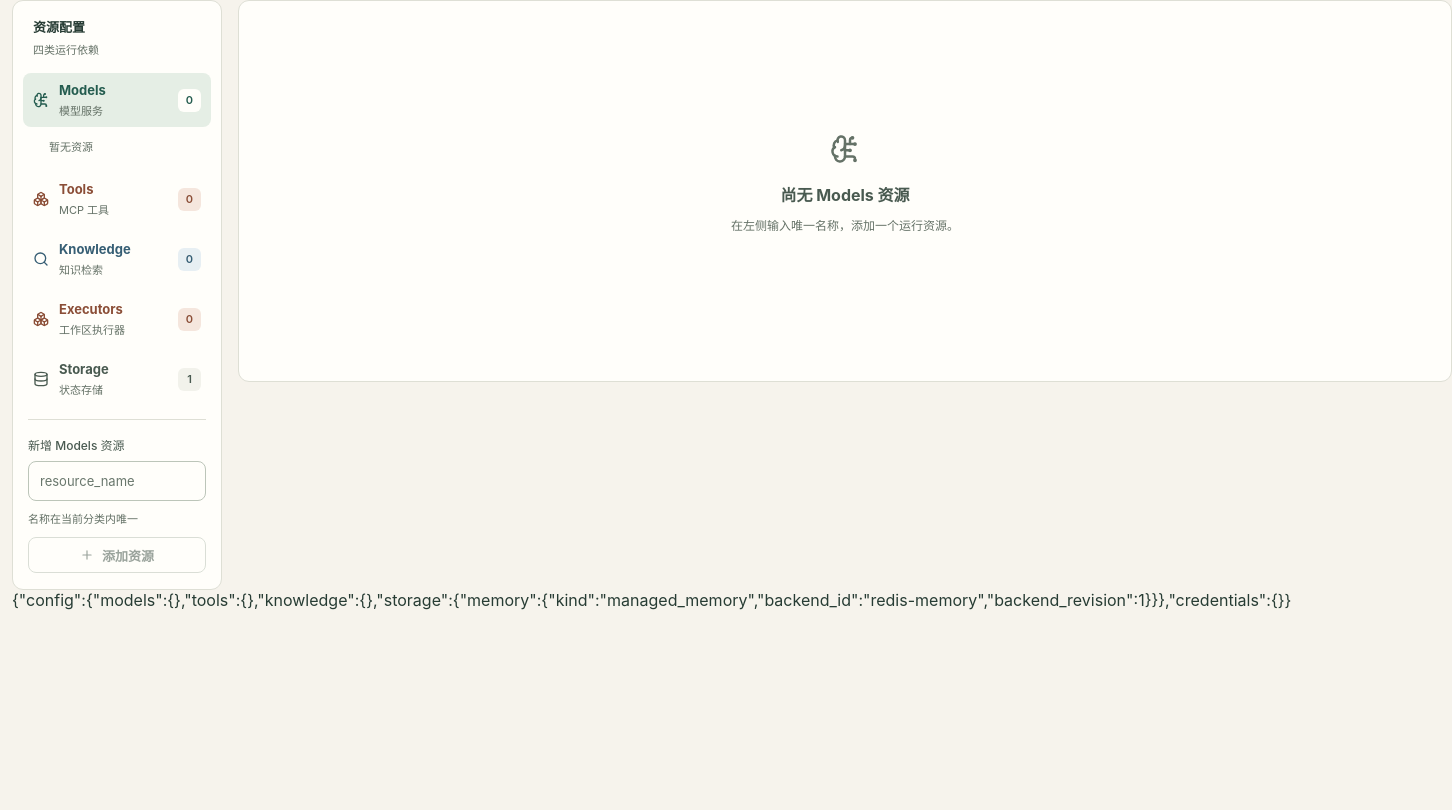
Test: preserves credential state without editing for unavailable backend
The image size is (1452, 810).
Click the button with aria-label "Storage ·": [117, 379] box [23,352,211,406]
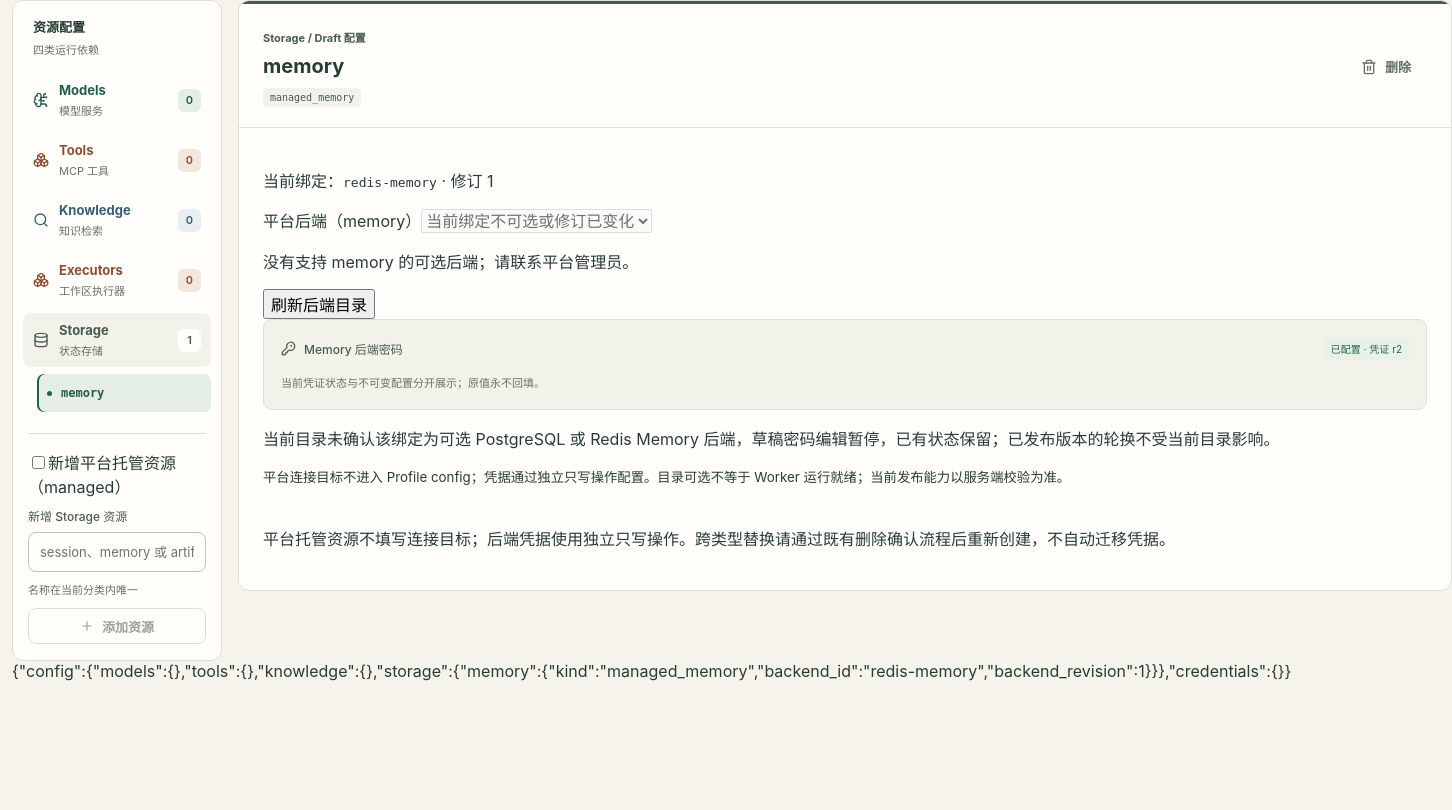
Result: the text "没有支持 memory 的可选后端；请联系平台管理员。" is shown at [263,252,638,272]
Result: the element "Memory 后端密码" shows "凭证 r2" at [1331,343,1402,355]
